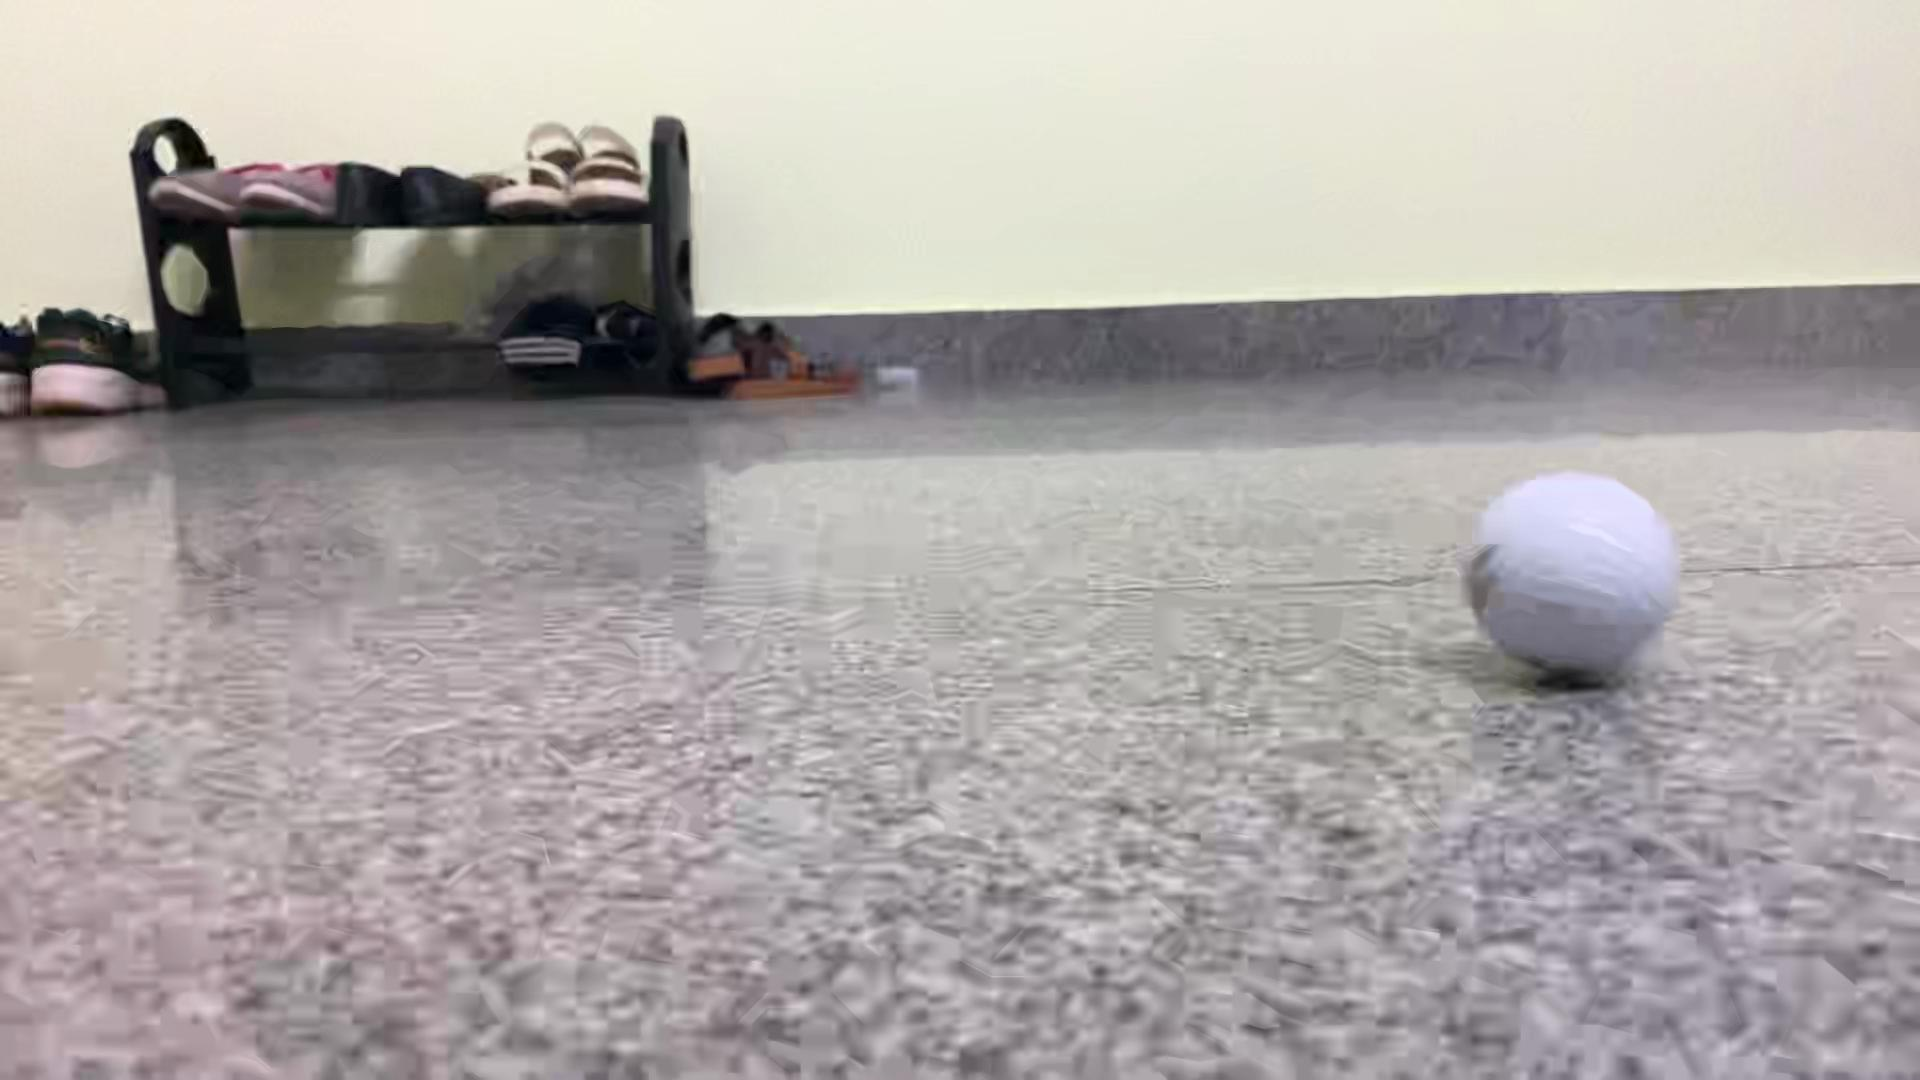golfball: (1462, 474, 1680, 678)
